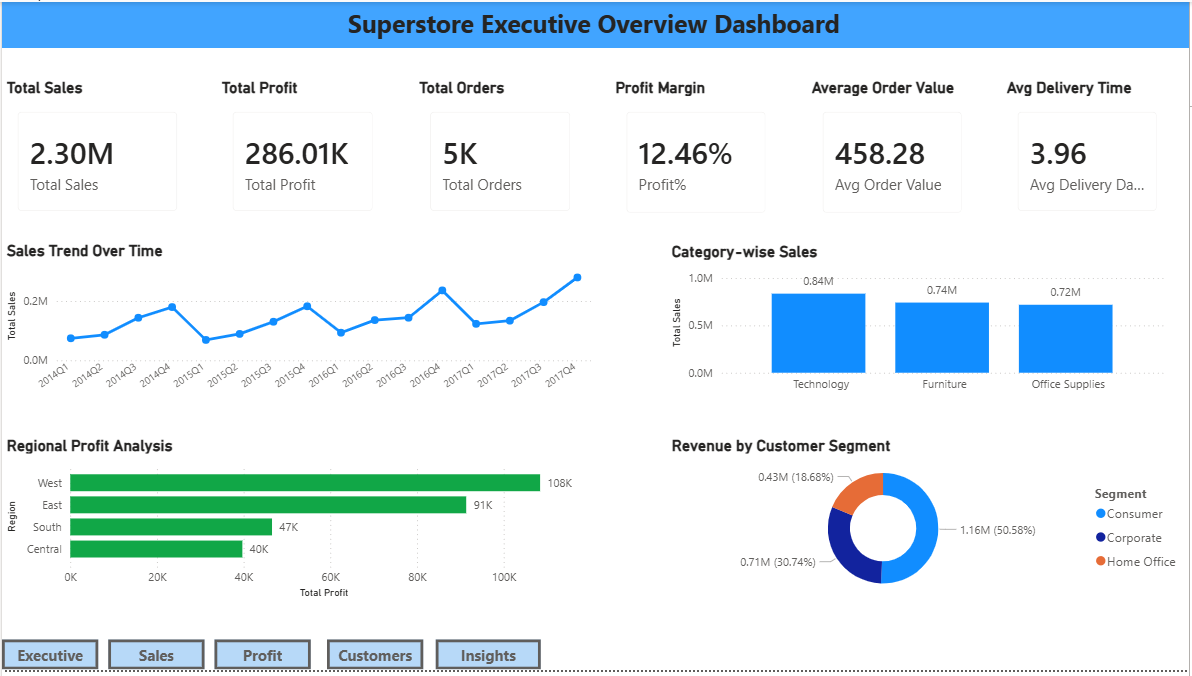

What the dashboard file says about the page in this screenshot:
{"tool":"powerbi","page":{"name":"Executive Overview","canvas":[1280,720],"ordinal":0},"visuals":[{"type":"cardVisual","title":"Total Sales","fields":{"Data":["Orders.Total Sales"]},"box":[0,82.2,206.2,160.4],"z":0},{"type":"cardVisual","title":"Total Profit","fields":{"Data":["Orders.Total Profit"]},"box":[232.3,82.2,186,160.4],"z":1000},{"type":"cardVisual","title":"Total Orders","fields":{"Data":["Orders.Total Orders"]},"box":[444.5,82.2,186,160.4],"z":2000},{"type":"cardVisual","title":"Profit Margin","fields":{"Data":["Orders.Profit%"]},"box":[656.6,82.2,184.6,163.1],"z":3000},{"type":"cardVisual","title":"Average Order Value","fields":{"Data":["Orders.Avg Order Value"]},"box":[867.4,82.2,184.6,163.1],"z":4000},{"type":"cardVisual","title":"Avg Delivery Time","fields":{"Data":["Orders.Avg Delivery Days"]},"box":[1078.1,82.2,184.6,160.4],"z":5000},{"type":"lineChart","title":"Sales Trend Over Time","fields":{"Y":["Orders.Total Sales"],"Category":["Orders.Year-Quarter"]},"box":[0,257.4,640.1,171.2],"z":6000},{"type":"clusteredColumnChart","title":"Category-wise Sales","fields":{"Category":["Orders.Category"],"Y":["Orders.Total Sales"]},"box":[717,258.8,544.5,171.2],"z":7000},{"type":"barChart","title":"Regional Profit Analysis","fields":{"Category":["Orders.Region"],"Y":["Orders.Total Profit"]},"box":[0,467.6,640.1,180.6],"z":8000},{"type":"donutChart","title":" Revenue by Customer Segment","fields":{"Category":["Orders.Segment"],"Y":["Orders.Total Sales"]},"box":[717,467.6,563.3,180.6],"z":9000},{"type":"textbox","box":[0,0,1280,49.9],"z":10000},{"type":"actionButton","box":[0,687.3,103.8,32.3],"z":11000},{"type":"actionButton","box":[114.6,687.3,103.8,32.3],"z":12000},{"type":"actionButton","box":[229.1,687.3,103.8,32.3],"z":13000},{"type":"actionButton","box":[350.4,687.3,103.8,32.3],"z":14000},{"type":"actionButton","box":[467.6,687.3,113.2,32.3],"z":15000}]}

Visuals, with their boxes in screenshot pixels (x1, y1, x2, y2), scaled from the page's 1280x720 canvas onto the 1192x676 screenshot:
"Total Sales" cardVisual: locate(0, 77, 192, 228)
"Total Profit" cardVisual: locate(216, 77, 390, 228)
"Total Orders" cardVisual: locate(414, 77, 587, 228)
"Profit Margin" cardVisual: locate(611, 77, 783, 230)
"Average Order Value" cardVisual: locate(808, 77, 980, 230)
"Avg Delivery Time" cardVisual: locate(1004, 77, 1176, 228)
"Sales Trend Over Time" lineChart: locate(0, 242, 596, 402)
"Category-wise Sales" clusteredColumnChart: locate(668, 243, 1175, 404)
"Regional Profit Analysis" barChart: locate(0, 439, 596, 609)
" Revenue by Customer Segment" donutChart: locate(668, 439, 1191, 609)
textbox: locate(0, 0, 1191, 47)
actionButton: locate(0, 645, 97, 675)
actionButton: locate(107, 645, 203, 675)
actionButton: locate(213, 645, 310, 675)
actionButton: locate(326, 645, 423, 675)
actionButton: locate(435, 645, 541, 675)
